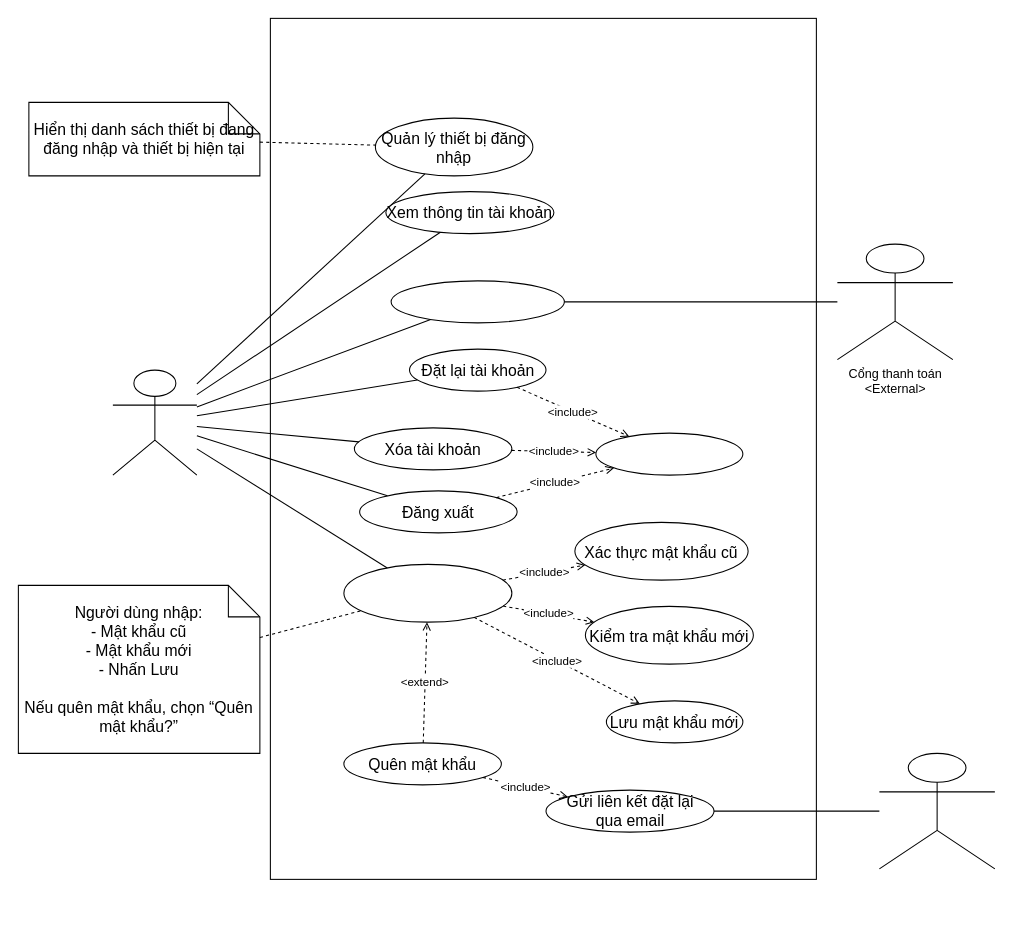
Some shapes in this 1013 by 925 pixel diagram are drawn without their labels. The box of each missing label's shape, as (x1, y1, x2, y2) in pixels:
Dịch vụ Email <External >: (878, 752, 995, 869)
Mua phiên bản Cao cấp: (390, 280, 564, 323)
Người dùng: (112, 369, 197, 475)
Phân hệ Quản lý Tài khoản: (269, 17, 816, 879)
Thay đổi mật khẩu: (343, 563, 512, 622)
Xác nhận thao tác: (595, 432, 743, 475)
